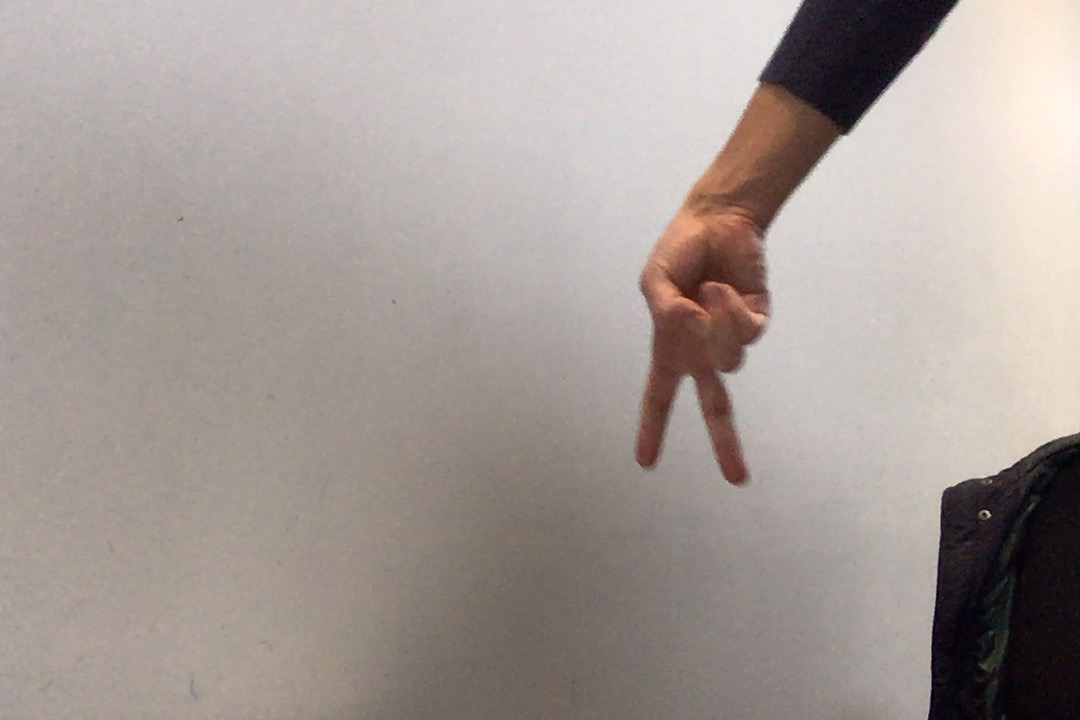peacesign: (628, 203, 776, 493)
